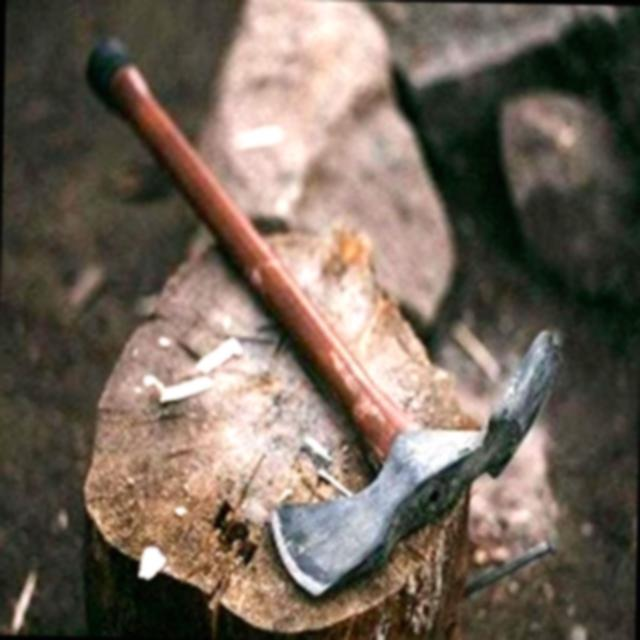ax: (62, 29, 575, 612)
